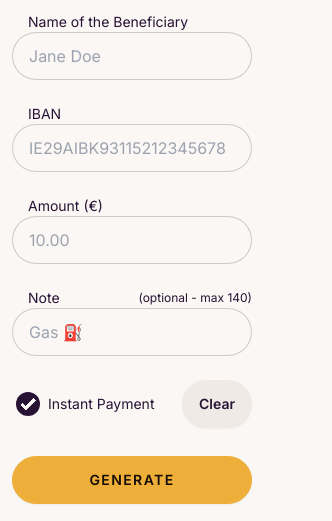
Test: GeneratorForm › beneficiary form field › shows error on input too long
// Enter too many characters in the beneficiary field
In the field labelled "Name of the Beneficiary": (132, 56) [12,32,252,80], type "Lorem ipsum, dolor sit amet consectetur adipisicing elit. Sapiente, nesciunt."
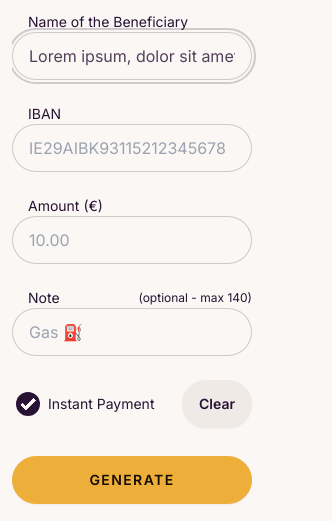
// Submit the form with too long input
Click the button "GENERATE": (132, 480) [12,456,252,504]
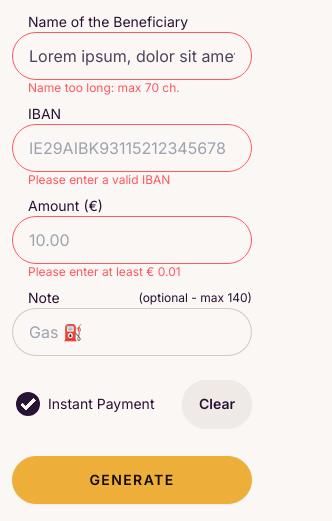
Expected: the text "Name too long: max 70 ch." is shown, [28,80,180,95]
